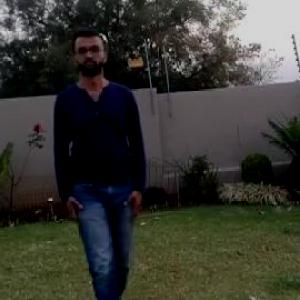follow: (59, 38, 147, 299)
